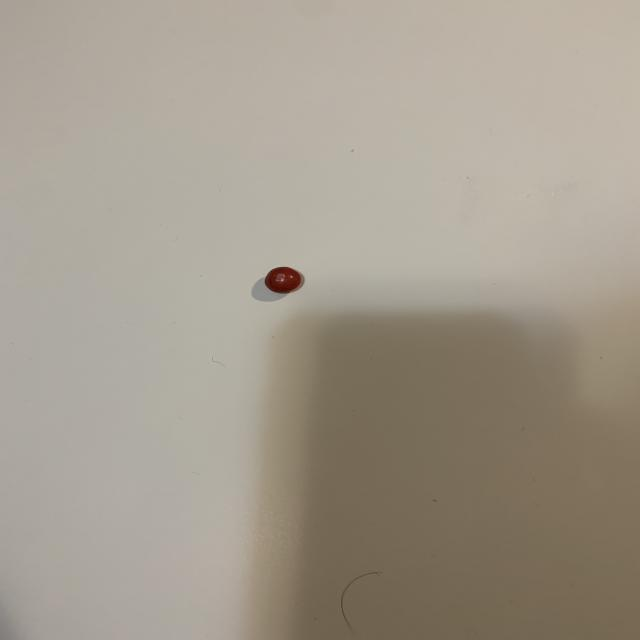smartie: (264, 267, 301, 293)
